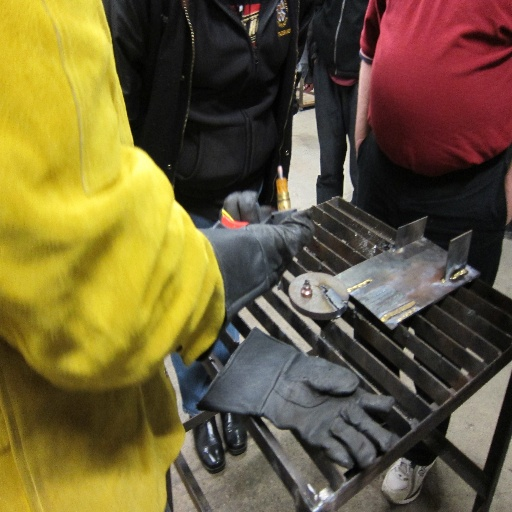hand: (221, 192, 314, 307), (352, 128, 369, 155), (505, 167, 511, 227)
